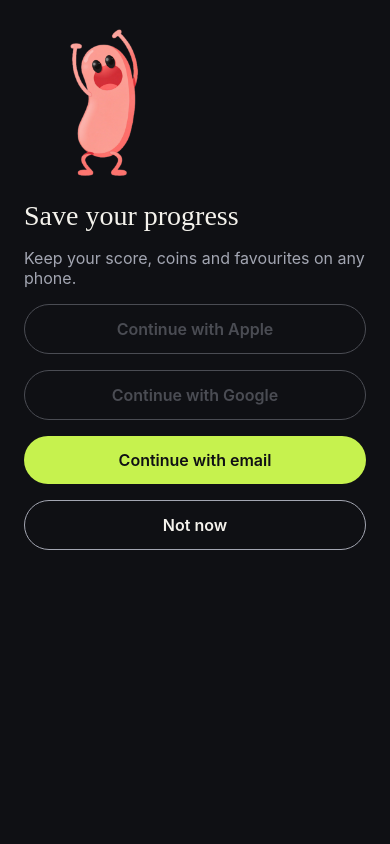
Test: a duplicate-email signup shows the server message
Click the text "Continue with email" at (195, 460), box [119, 450, 271, 470]
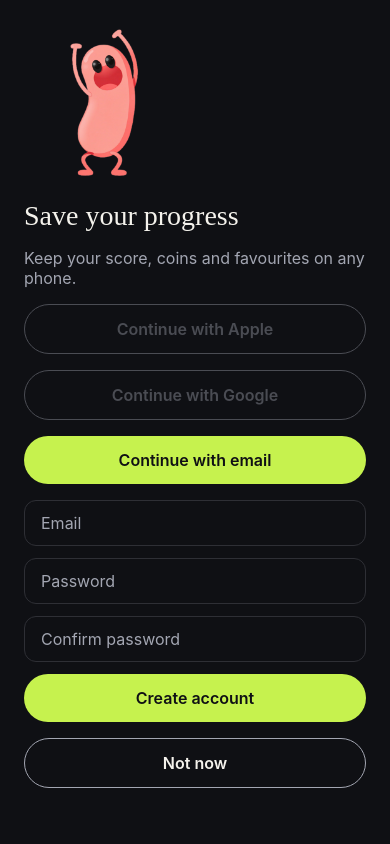
Type "a@b.com" into the field with placeholder "Email" at (195, 523), box [24, 500, 366, 546]
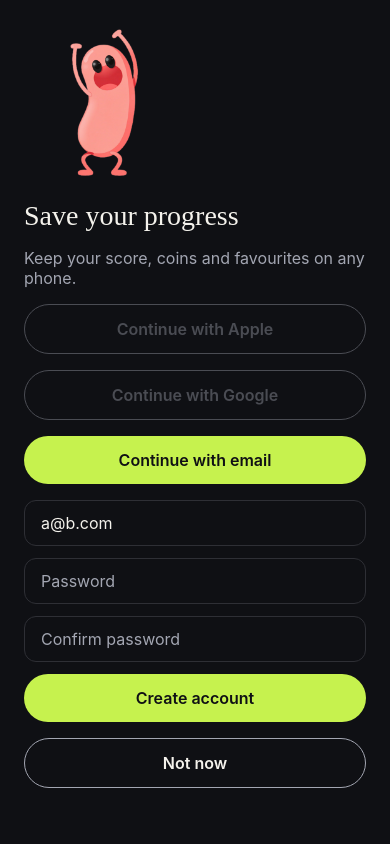
Type "longenough" into the password field with placeholder "Password" at (195, 581), box [24, 558, 366, 604]
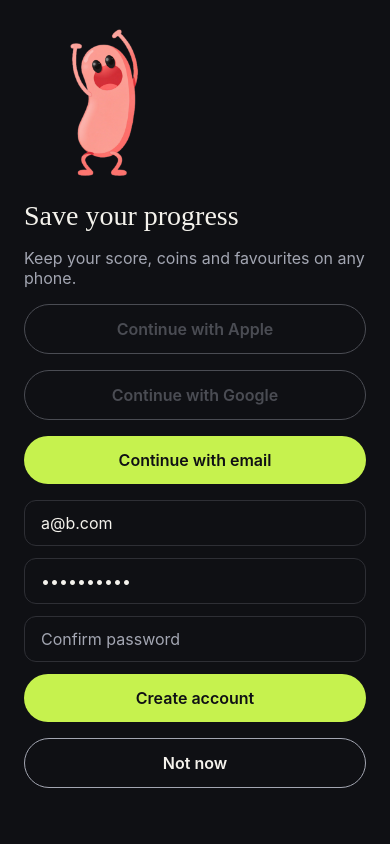
Type "longenough" into the password field with placeholder "Confirm password" at (195, 639), box [24, 616, 366, 662]
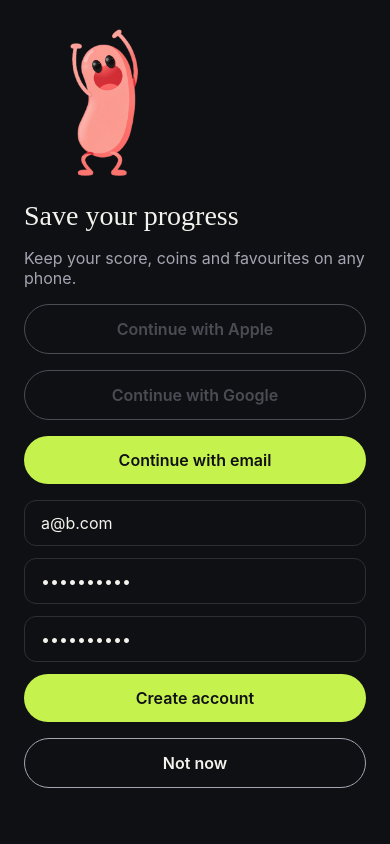
Click the text "Create account" at (195, 698), box [136, 688, 254, 708]
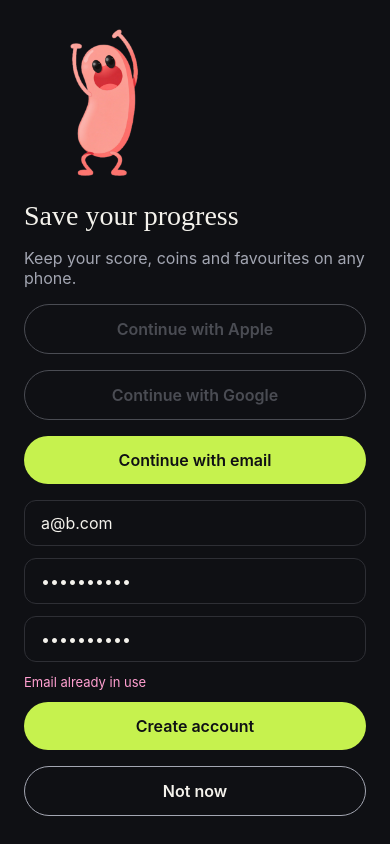
Now the text "Email already in use" is shown, box [24, 674, 146, 690]
